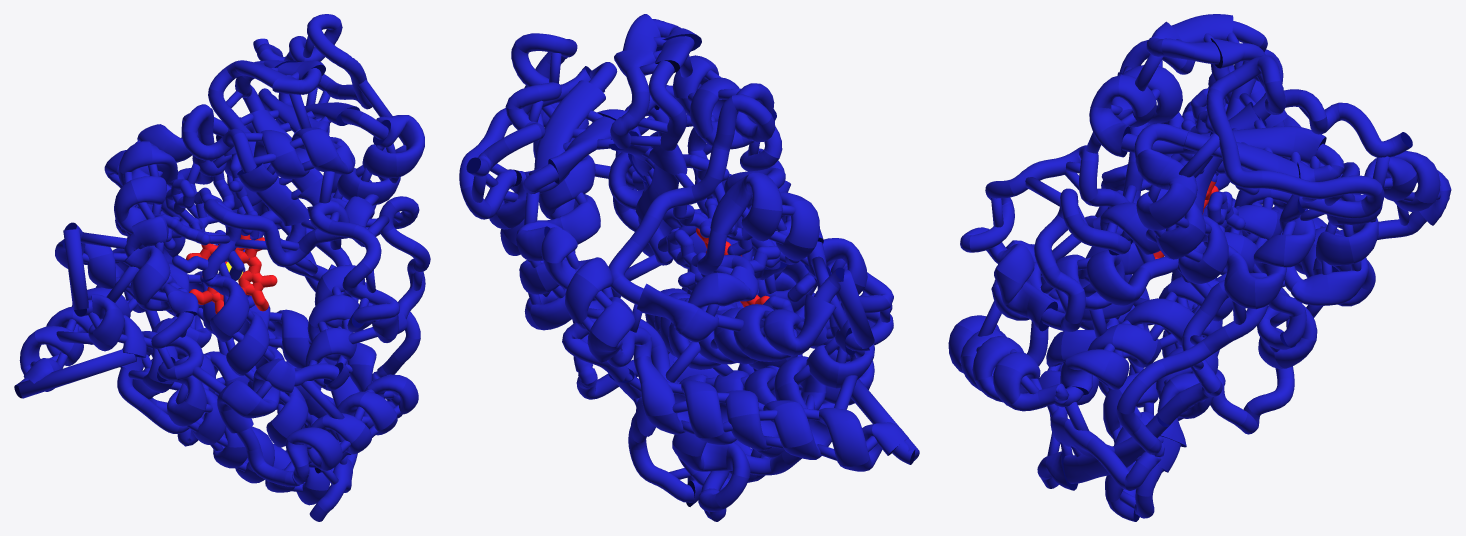
The model's file is cytochrome_p450_with_haem_highlighted.glb.
3 renders of one model, left to right at view 1: azimuth 30°, elevation 25°; view 2: azimuth 150°, elevation 25°; view 3: azimuth 270°, elevation 25°, orthographic. The views are drawn at different scales.
Visible parts, largest first — view 1: Shape_Cylinder_0; view 2: Shape_Cylinder_0; view 3: Shape_Cylinder_0.
Part boxes in pixels (box(x1,y1,x2,y2)): Shape_Cylinder_0: box(14, 14, 430, 521); Shape_Cylinder_0: box(459, 14, 919, 521); Shape_Cylinder_0: box(948, 14, 1451, 521).
Bounding box in the file's own units: 58.23 × 64.6 × 58.7.
